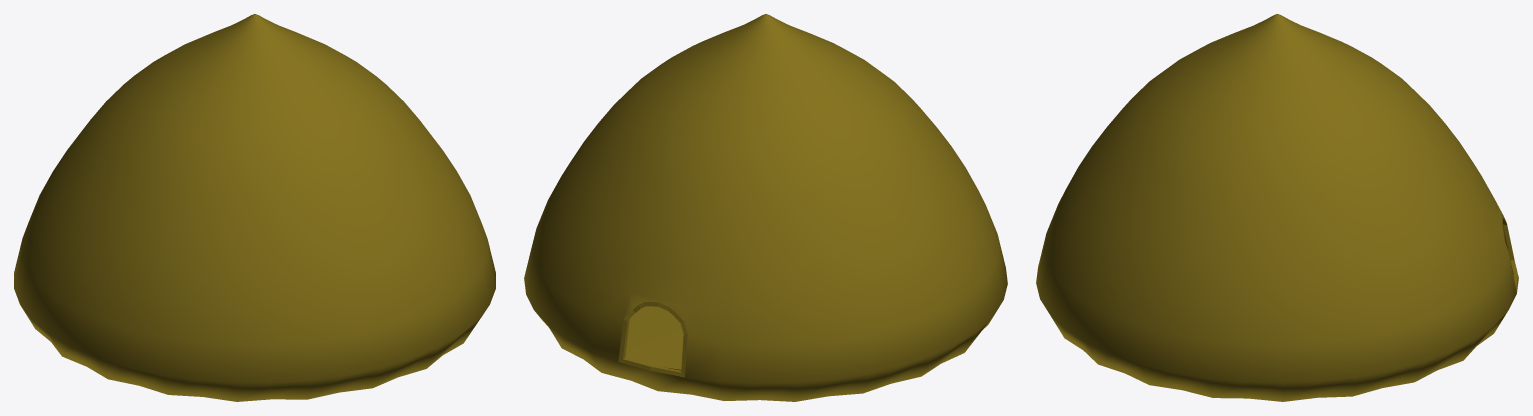
The model's file is Oca.fbx.
3 views of the same model, side by side, from view 1: azimuth 30°, elevation 25°; view 2: azimuth 150°, elevation 25°; view 3: azimuth 270°, elevation 25° (orthographic).
Visible parts, largest first — view 1: pCylinder9; view 2: pCylinder9; view 3: pCylinder9.
Boxes of the visible parts, x1=… form: pCylinder9: x1=14, y1=14, x2=495, y2=401; pCylinder9: x1=524, y1=14, x2=1007, y2=401; pCylinder9: x1=1036, y1=14, x2=1518, y2=401.
Size of the model in its own units: 24.18 by 16.12 by 24.18.
